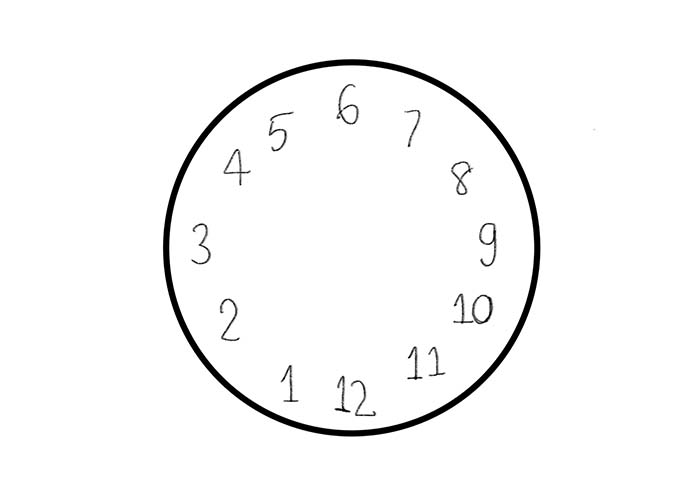eight: (448, 158, 479, 203)
eleven: (402, 340, 444, 382)
five: (266, 112, 295, 151)
four: (221, 146, 254, 189)
nine: (473, 218, 504, 274)
one: (275, 361, 302, 407)
seven: (399, 103, 423, 150)
six: (335, 84, 362, 124)
ten: (452, 289, 497, 331)
three: (187, 219, 211, 267)
twelve: (333, 371, 376, 419)
two: (215, 296, 242, 346)
